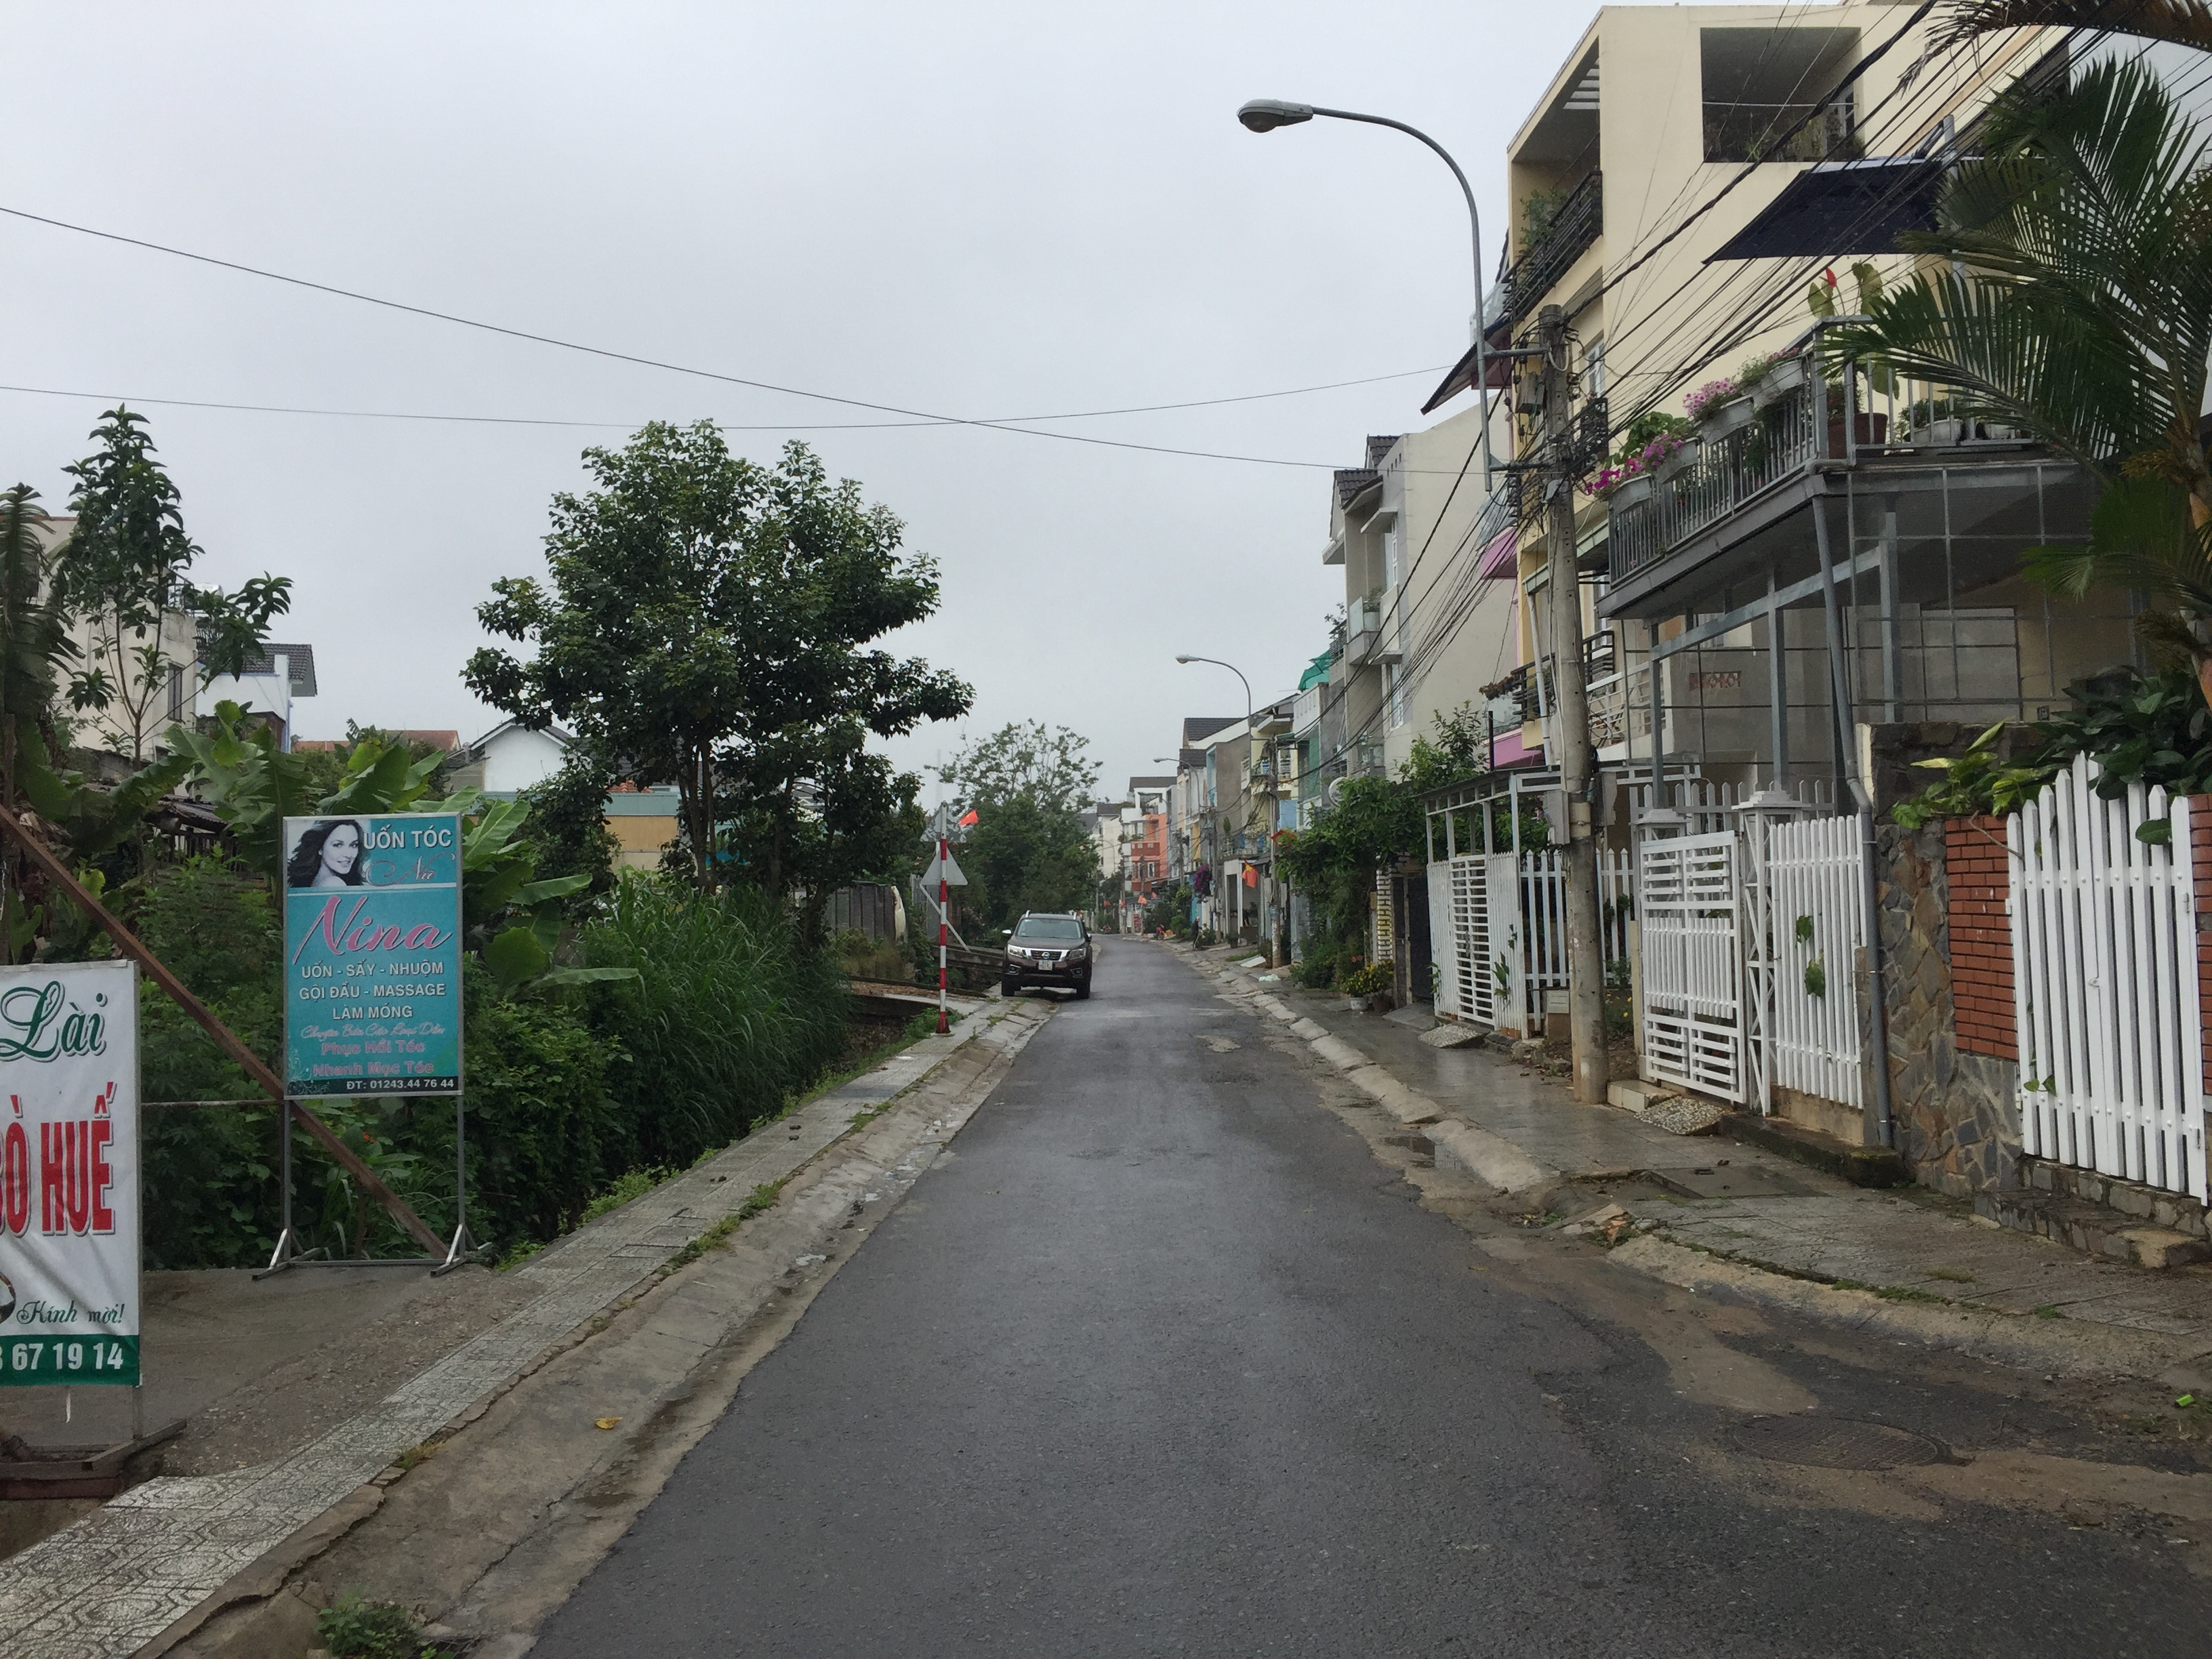hole: (2055, 1497, 2188, 1539), (1193, 1033, 1237, 1053), (1204, 1073, 1259, 1084)
